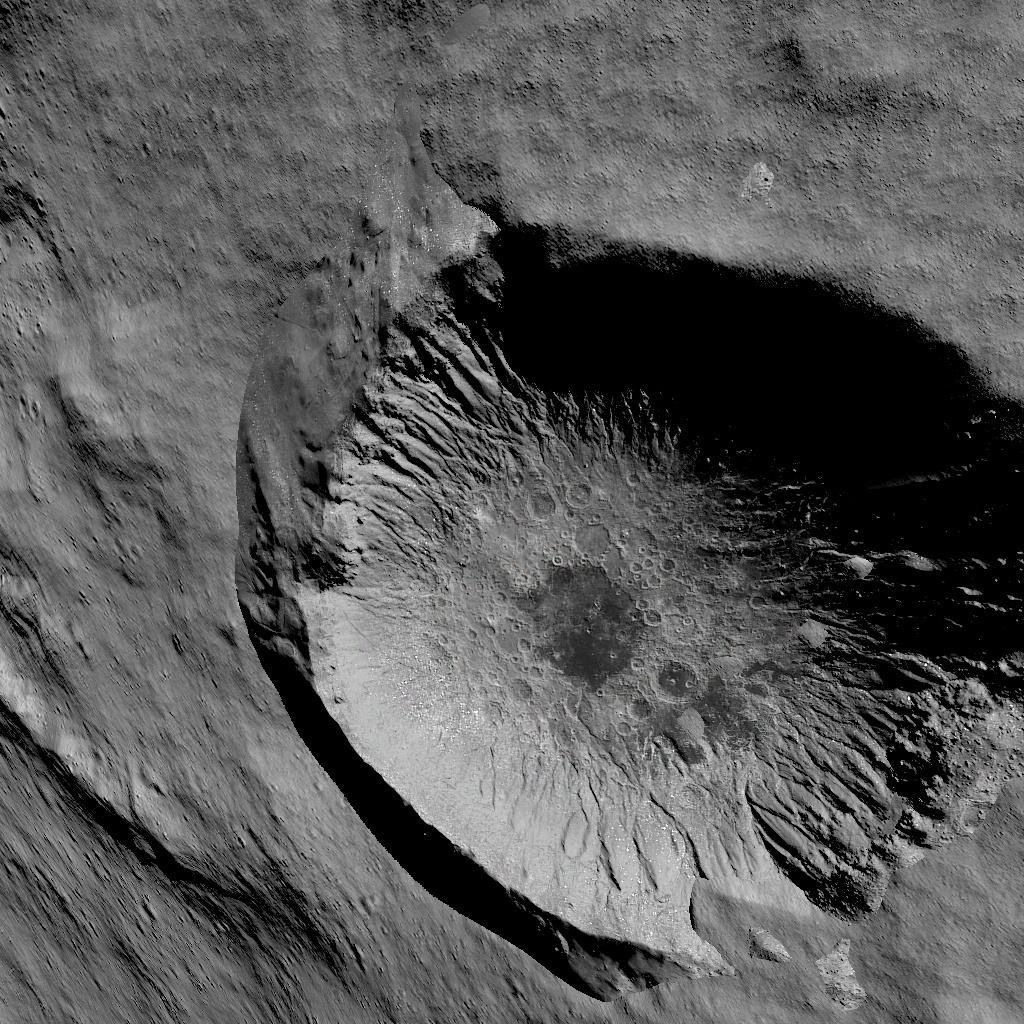Crater: (251, 198, 1024, 1012)
Plan surface: (31, 0, 232, 625), (247, 4, 1024, 122)
